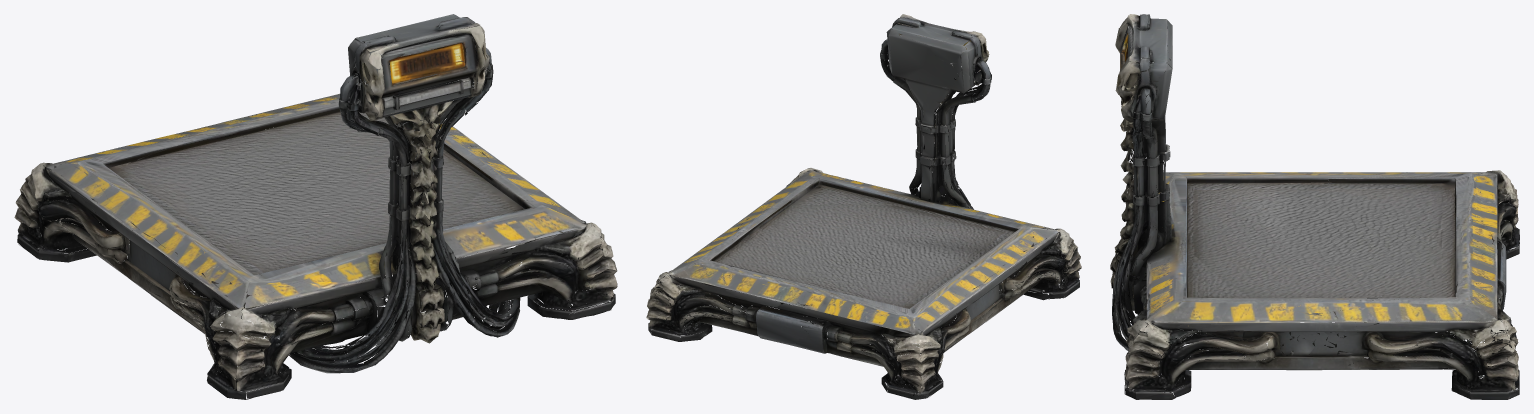
Rendered from evac_cargo_ballast_scale.glb.
3 renders of one model, left to right at view 1: azimuth 30°, elevation 25°; view 2: azimuth 150°, elevation 25°; view 3: azimuth 270°, elevation 25°, orthographic. The views are drawn at different scales.
Parts seen in each view (by area): view 1: node_0; view 2: node_0; view 3: node_0.
Boxes of the visible parts, x1,y1,x2,y2 form: node_0: [14, 14, 617, 399]; node_0: [646, 14, 1081, 399]; node_0: [1110, 14, 1519, 399].
Bounding box in the file's own units: 0.7516 × 0.5868 × 0.7757.
1 material, 1 textured.
